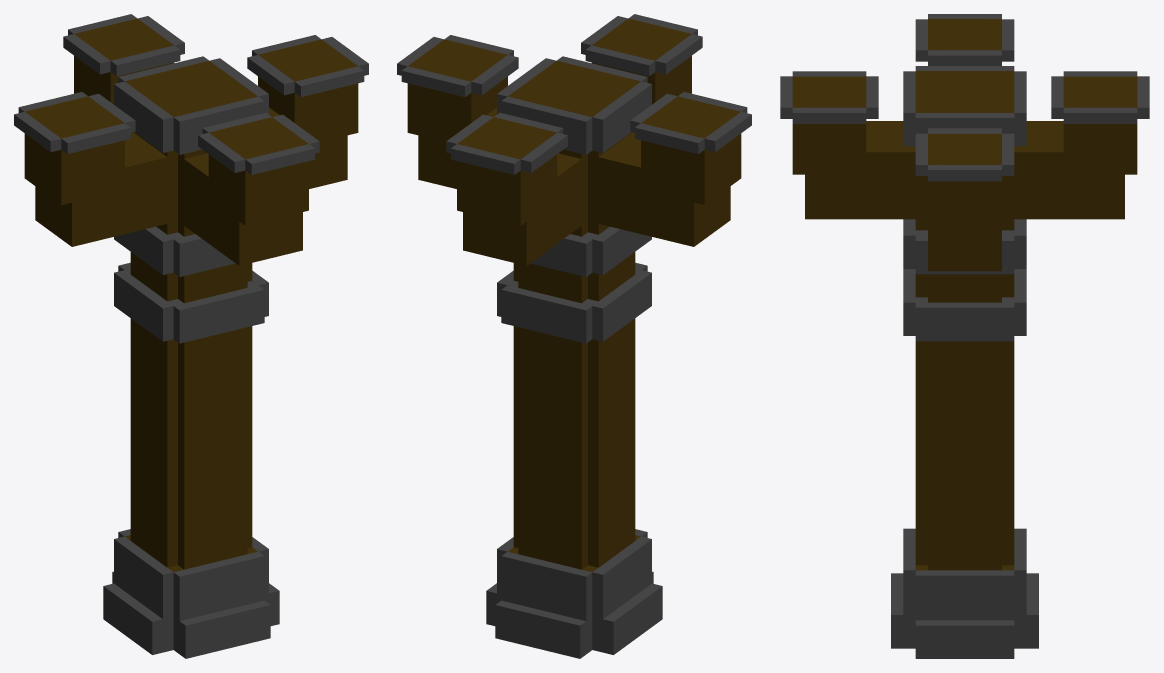
Rendered from chapter2_philar.fbx.
The picture shows the model from 3 angles, left to right: view 1: azimuth 30°, elevation 25°; view 2: azimuth 150°, elevation 25°; view 3: azimuth 270°, elevation 25°; orthographic projection.
Parts seen in each view (by area): view 1: Matrix; view 2: Matrix; view 3: Matrix.
Part boxes in pixels (bbox=[...]): Matrix: bbox=[14, 14, 368, 658]; Matrix: bbox=[397, 14, 751, 658]; Matrix: bbox=[780, 14, 1149, 658].
Bounding box in the file's own units: 30 × 48 × 30.
